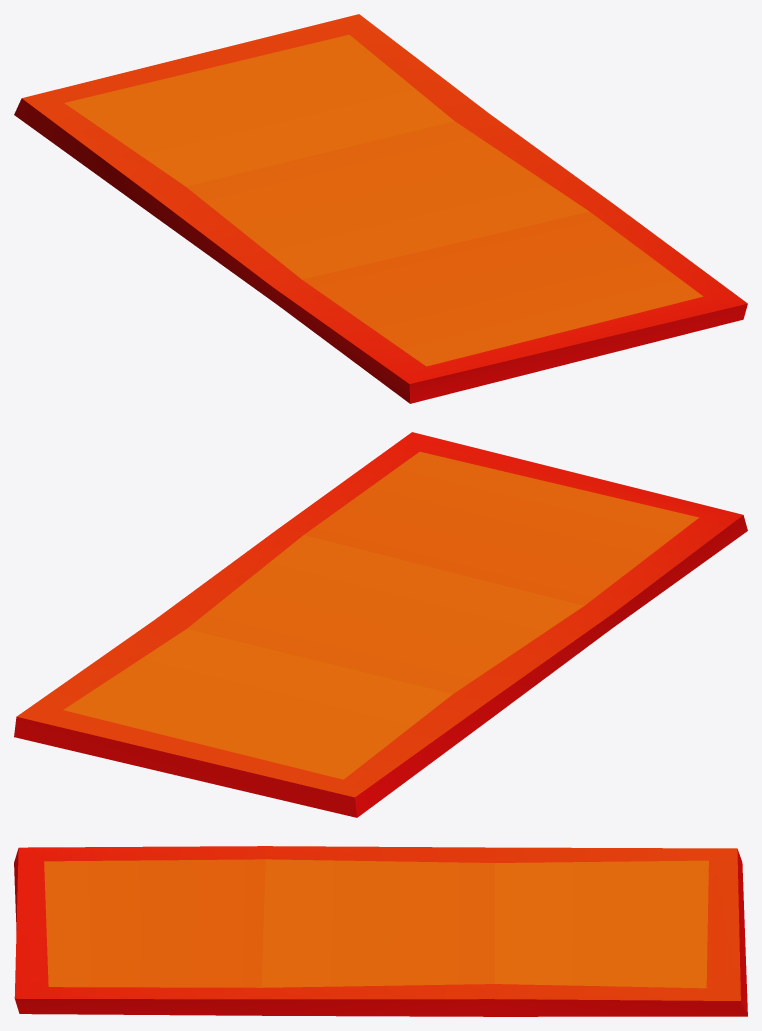
File: BeachProps1.fbx
The picture shows the model from 3 angles, top to bottom: view 1: azimuth 30°, elevation 25°; view 2: azimuth 150°, elevation 25°; view 3: azimuth 270°, elevation 25°; orthographic projection. The views are drawn at different scales.
Visible parts, largest first — view 1: Towel_03; view 2: Towel_03; view 3: Towel_03.
Part boxes in pixels (box(x1,y1,x2,y2)): Towel_03: box(14, 14, 747, 403); Towel_03: box(14, 432, 747, 817); Towel_03: box(14, 846, 747, 1016).
Size of the model in its own units: 66.1 by 3.2 by 132.
